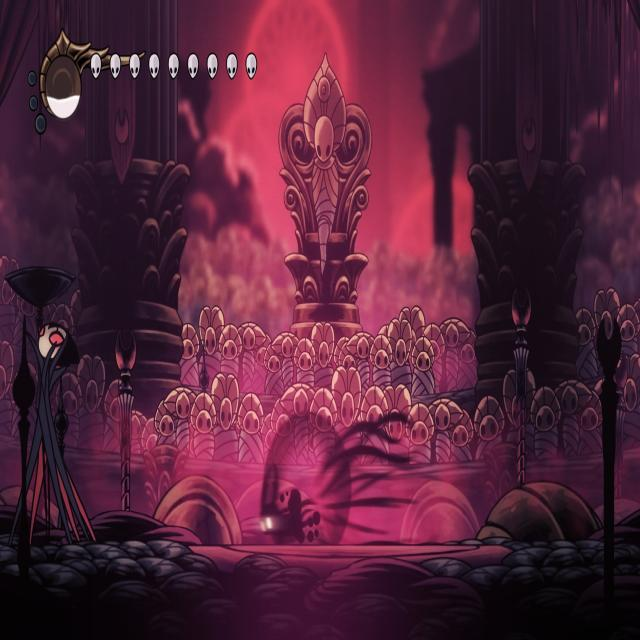Grimm: (8, 312, 102, 544)
Player: (253, 448, 311, 548)
